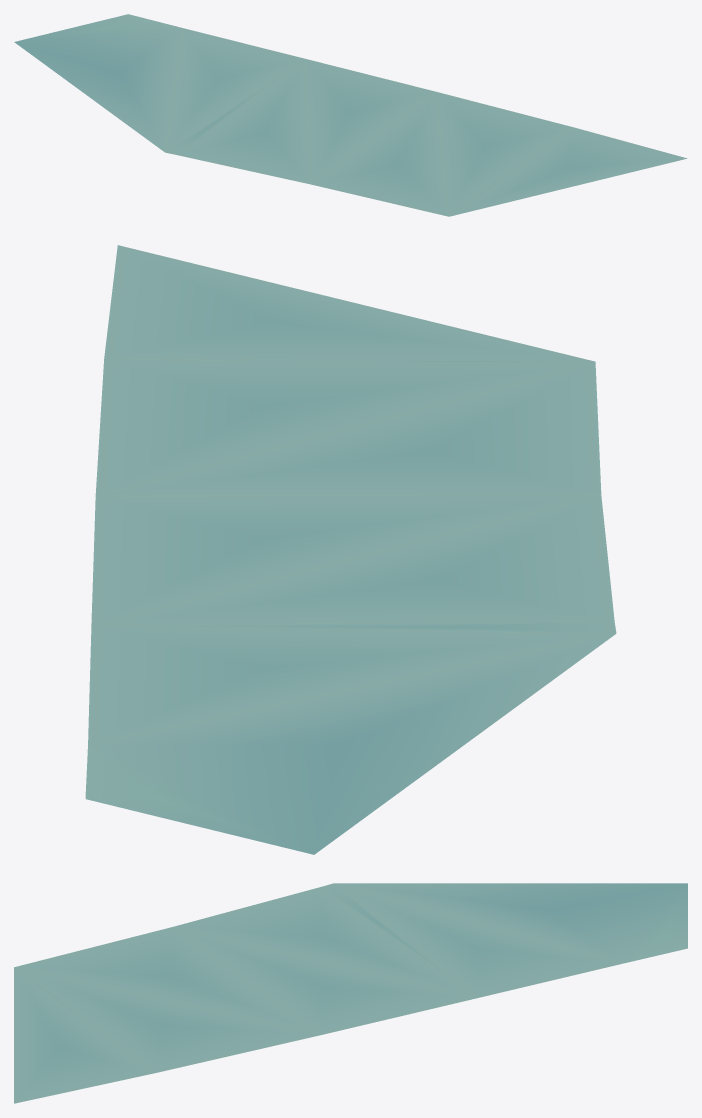
The model's file is water-14-14.glb.
3 renders of one model, top to bottom at view 1: azimuth 30°, elevation 25°; view 2: azimuth 150°, elevation 25°; view 3: azimuth 270°, elevation 25°, orthographic. The views are drawn at different scales.
Size of the model in its own units: 12.39 by 0 by 16.
